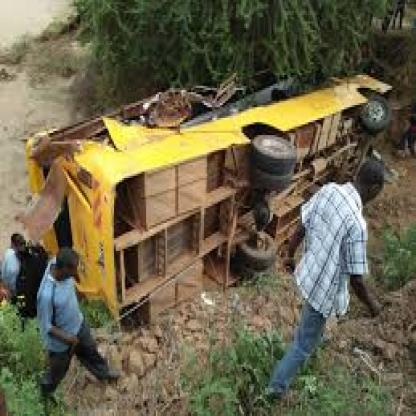accident: (26, 66, 416, 352)
